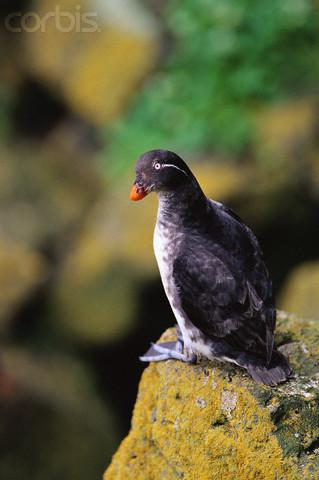007.Parakeet_Auklet: (129, 148, 295, 381)
